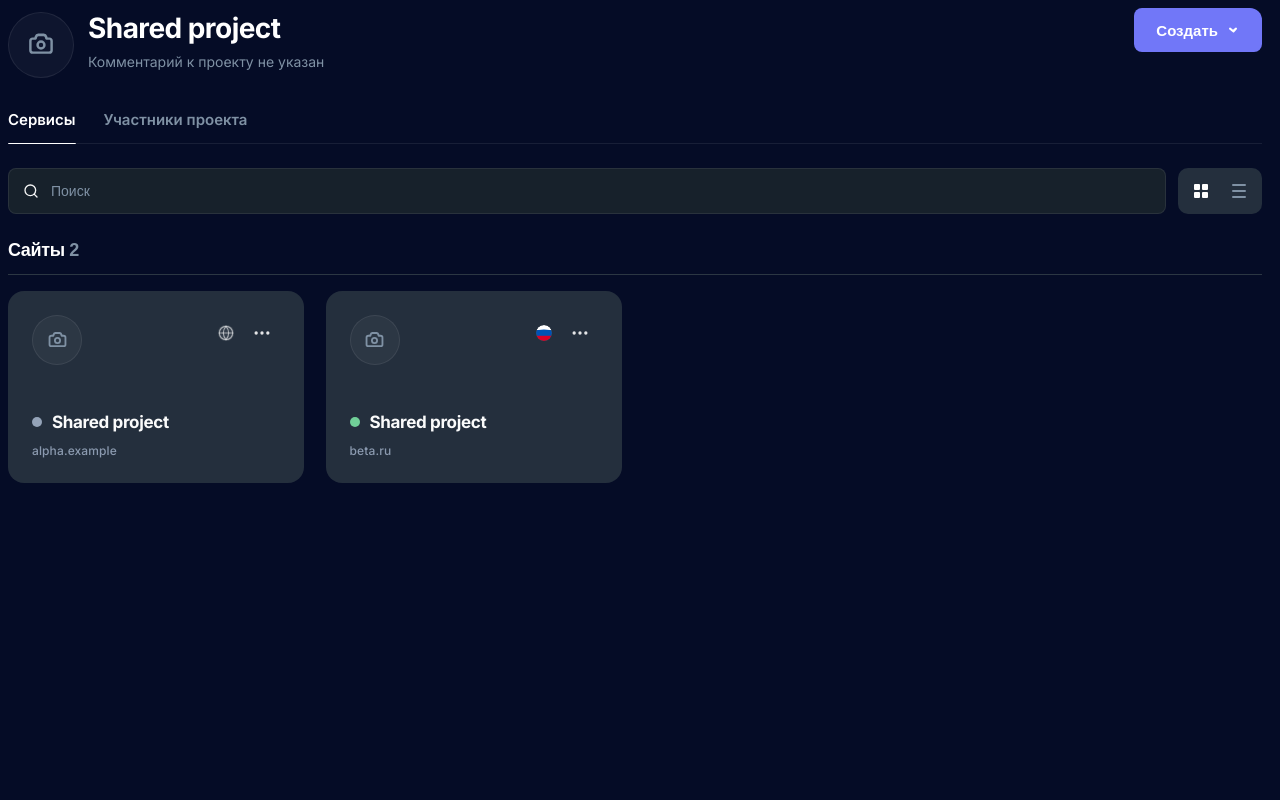
Test: SiteProjectLayout child sites › removes site card immediately while delete is in progress
Click the 6th button at [580, 333], box [562, 315, 598, 351]
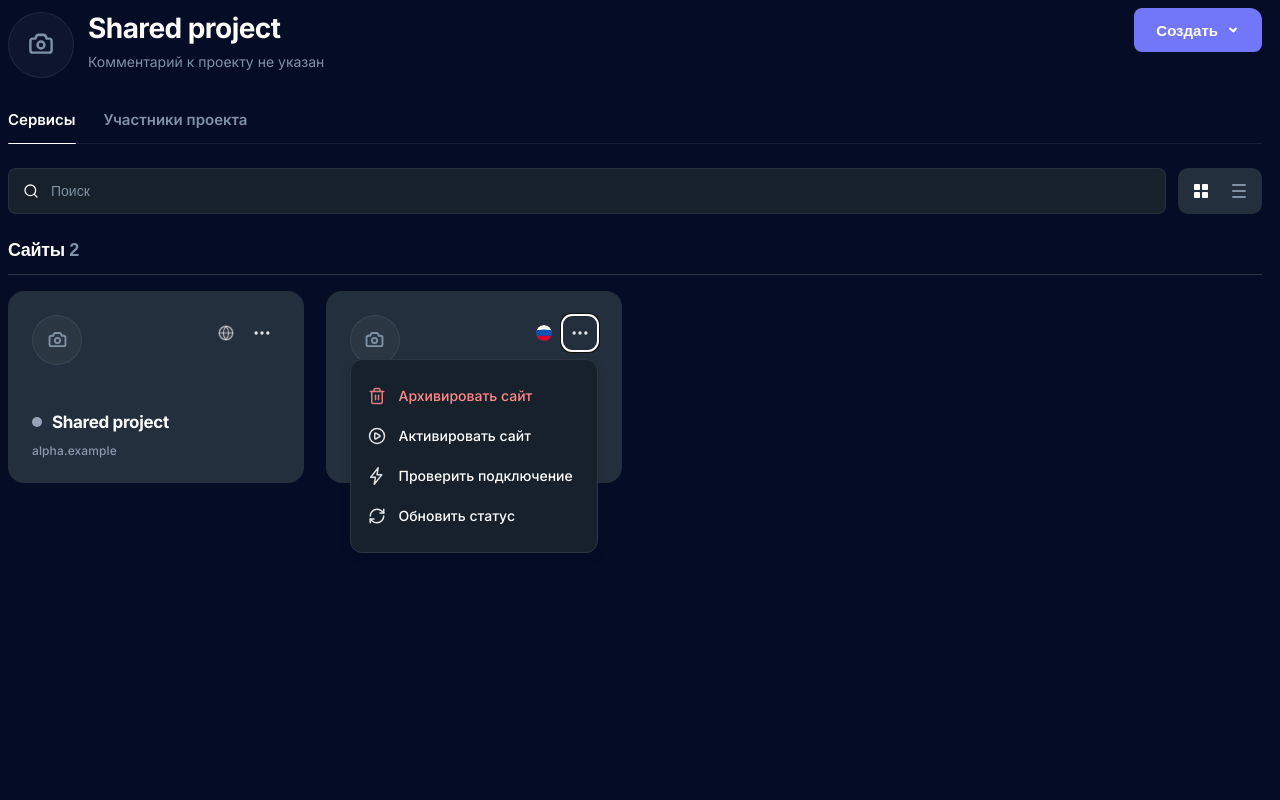
Click the menu item "Архивировать сайт" at [474, 396], box [350, 376, 596, 416]
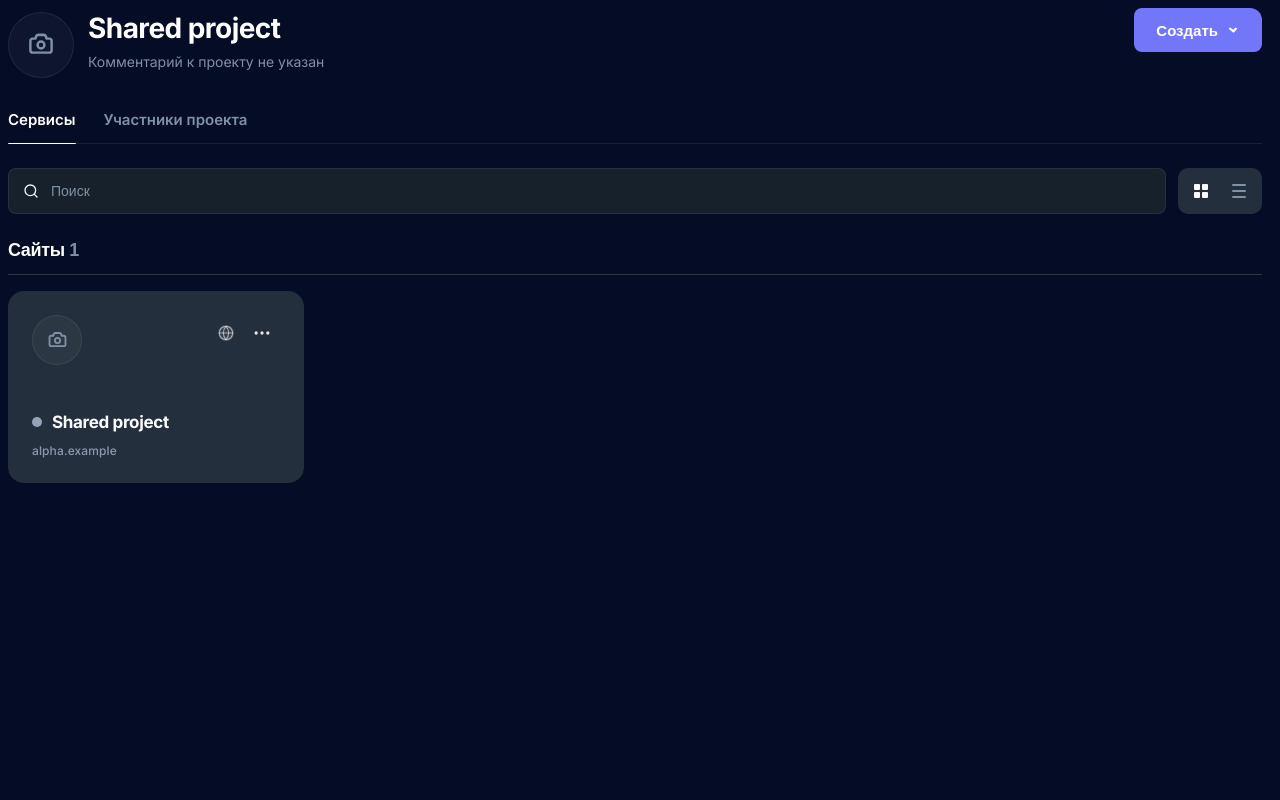
Now the heading "Сайты 1" is shown, box [8, 238, 79, 262]
